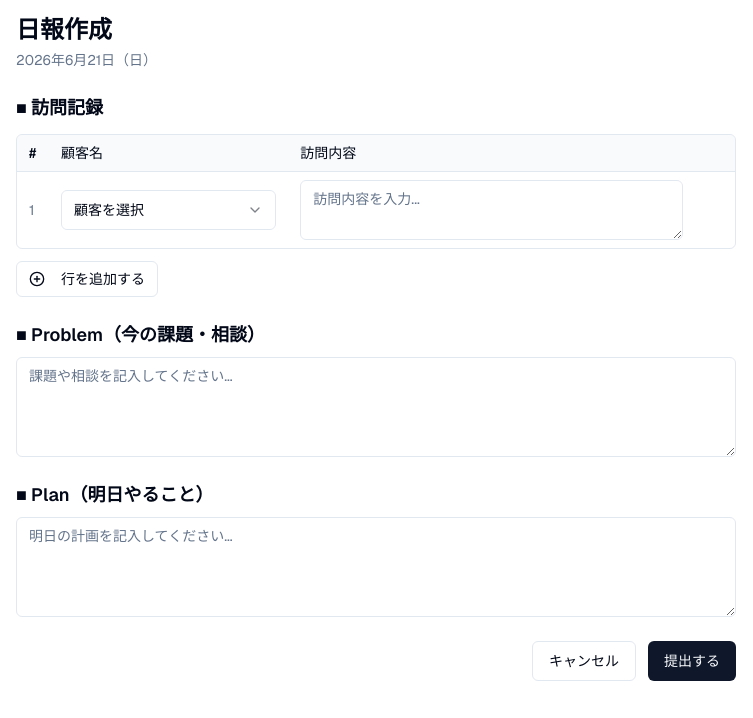
SCR-TEST-007: 日報作成（訪問記録未入力で提出） › 訪問内容未入力で提出するとバリデーションエラーが表示される
The width and height of the screenshot is (753, 718).
提出ボタンをクリック（訪問記録は空のまま）
Step 1. Click the button "提出する" → point(692, 661), box [648,641,736,681]
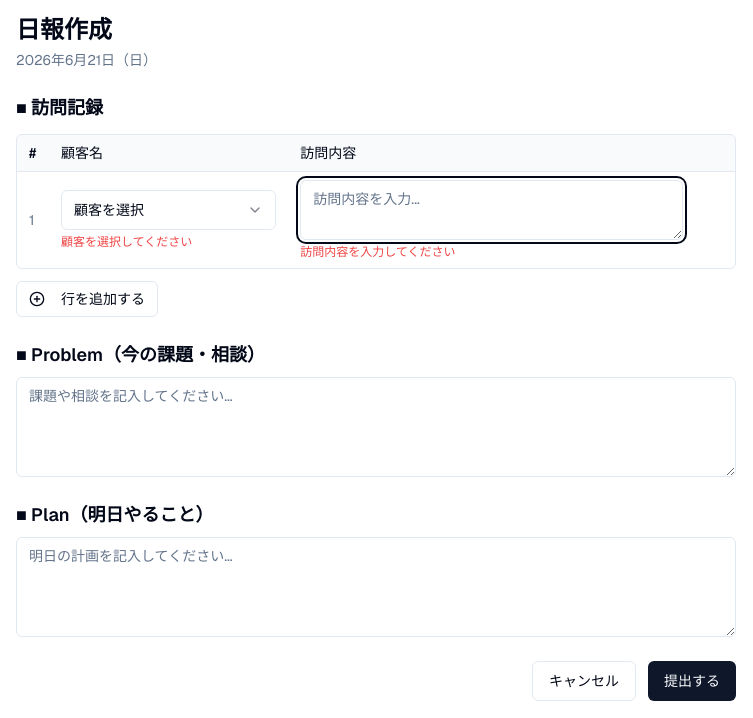
Now the text "訪問内容を入力してください" is shown, box [300,244,456,260]
